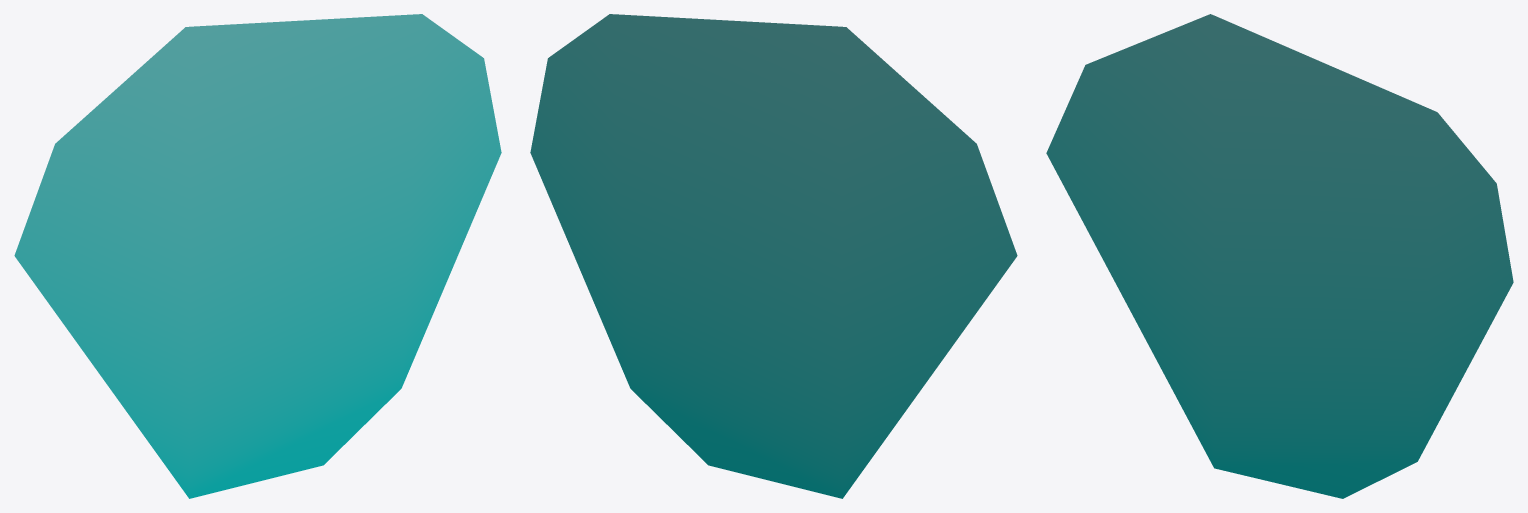
File: Common_Hemp_Nettle_xh1kdfbqx_Mid_xh1kdfbqx_VarD_LOD3.fbx
3 renders of one model, left to right at view 1: azimuth 30°, elevation 25°; view 2: azimuth 150°, elevation 25°; view 3: azimuth 330°, elevation 25°, orthographic. The views are drawn at different scales.
Visible parts, largest first — view 1: _jwk4_VarD_LOD5; view 2: _jwk4_VarD_LOD5; view 3: _jwk4_VarD_LOD5.
Boxes of the visible parts, x1,y1,x2,y2 form: _jwk4_VarD_LOD5: (14, 14, 501, 498); _jwk4_VarD_LOD5: (530, 14, 1017, 498); _jwk4_VarD_LOD5: (1046, 14, 1513, 498).
Size of the model in its own units: 99.09 by 91.88 by 4.02e-06.
